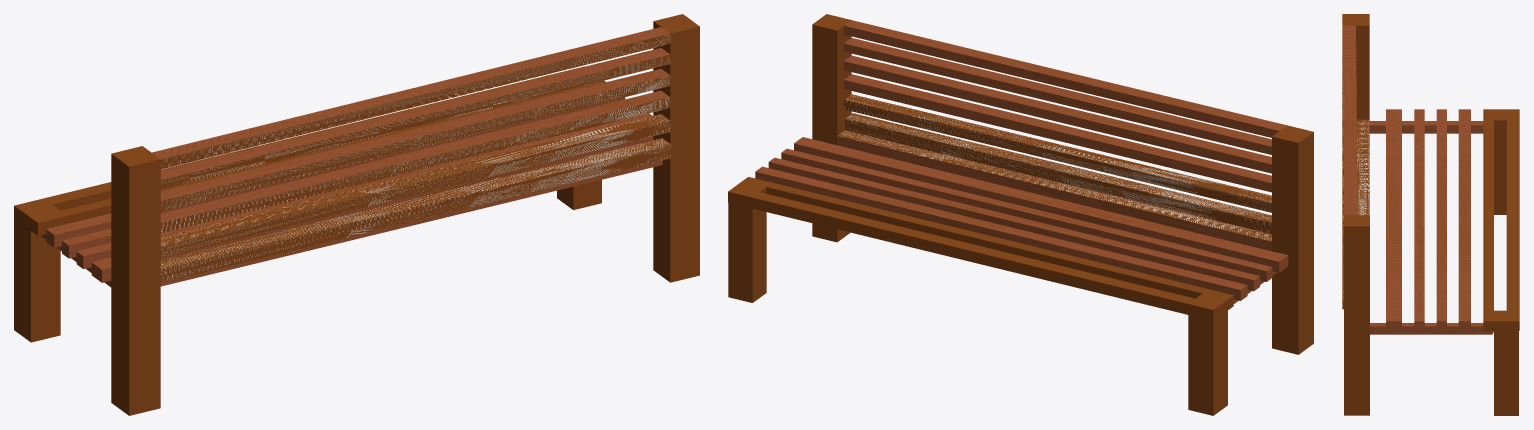
The picture shows the model from 3 angles, left to right: view 1: azimuth 30°, elevation 25°; view 2: azimuth 150°, elevation 25°; view 3: azimuth 270°, elevation 25°; orthographic projection. The views are drawn at different scales.
Parts seen in each view (by area): view 1: mesh1_mesh1-geometry, mesh2_mesh2-geometry, mesh5_mesh5-geometry, mesh3_mesh3-geometry, mesh4_mesh4-geometry; view 2: mesh1_mesh1-geometry, mesh3_mesh3-geometry, mesh5_mesh5-geometry, mesh4_mesh4-geometry, mesh2_mesh2-geometry; view 3: mesh1_mesh1-geometry, mesh3_mesh3-geometry, mesh5_mesh5-geometry, mesh2_mesh2-geometry, mesh4_mesh4-geometry.
Boxes of the visible parts, x1,y1,x2,y2 form: mesh1_mesh1-geometry: [14, 14, 699, 415]; mesh2_mesh2-geometry: [76, 113, 652, 268]; mesh5_mesh5-geometry: [46, 97, 625, 247]; mesh3_mesh3-geometry: [91, 136, 653, 282]; mesh4_mesh4-geometry: [62, 228, 111, 258]; mesh1_mesh1-geometry: [728, 14, 1313, 415]; mesh3_mesh3-geometry: [794, 137, 1288, 272]; mesh5_mesh5-geometry: [755, 166, 1247, 300]; mesh4_mesh4-geometry: [768, 157, 1259, 291]; mesh2_mesh2-geometry: [781, 148, 1272, 281]; mesh1_mesh1-geometry: [1342, 14, 1519, 415]; mesh3_mesh3-geometry: [1386, 109, 1401, 330]; mesh5_mesh5-geometry: [1458, 109, 1470, 330]; mesh2_mesh2-geometry: [1414, 109, 1424, 330]; mesh4_mesh4-geometry: [1436, 109, 1446, 330].
Bounding box in the file's own units: 0.8779 × 0.365 × 0.31.
